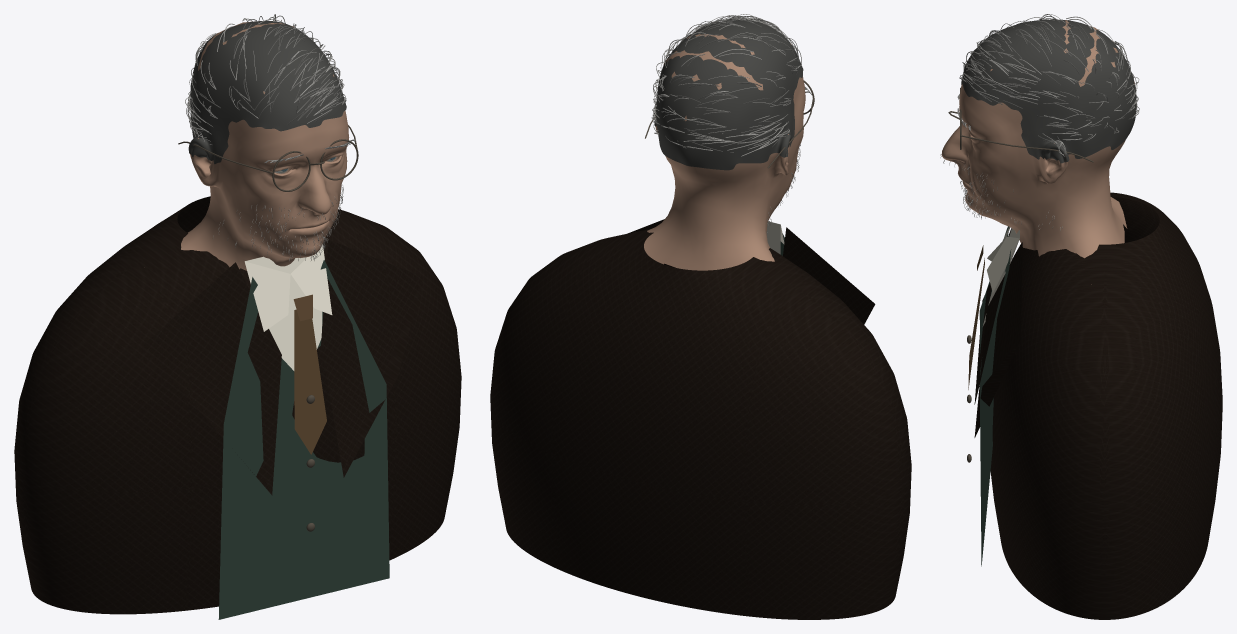
The model's file is scholar-blockout.glb.
3 views of the same model, side by side, from view 1: azimuth 30°, elevation 25°; view 2: azimuth 150°, elevation 25°; view 3: azimuth 270°, elevation 25° (orthographic). The views are drawn at different scales.
Parts seen in each view (by area): view 1: Scholar Brown tweed blocking, Scholar Forest wool waistcoat, Scholar Neutral aged skin blockout, Scholar Grey hair underlayer, Scholar Ivory shirt, Scholar Muted patterned tie blocking, Scholar Grey strand 1, Scholar Grey strand 3, Scholar Grey strand 2, Scholar Thin dark bronze spectacle rims, Scholar Grey strand 0, Scholar Grey strand 4; view 2: Scholar Brown tweed blocking, Scholar Grey hair underlayer, Scholar Neutral aged skin blockout, Scholar Grey strand 1, Scholar Grey strand 3, Scholar Grey strand 4, Scholar Grey strand 2, Scholar Grey strand 0; view 3: Scholar Brown tweed blocking, Scholar Neutral aged skin blockout, Scholar Grey hair underlayer, Scholar Forest wool waistcoat, Scholar Grey strand 1, Scholar Grey strand 3, Scholar Ivory shirt, Scholar Grey strand 4, Scholar Grey strand 0, Scholar Grey strand 2, Scholar Thin dark bronze spectacle rims, Scholar Muted patterned tie blocking.
Part boxes in pixels (x1,y1,x2,y2): Scholar Brown tweed blocking: [14, 196, 461, 614]; Scholar Forest wool waistcoat: [218, 259, 389, 619]; Scholar Neutral aged skin blockout: [181, 21, 349, 270]; Scholar Grey hair underlayer: [188, 20, 346, 164]; Scholar Ivory shirt: [244, 244, 332, 370]; Scholar Muted patterned tie blocking: [293, 294, 326, 454]; Scholar Grey strand 1: [186, 15, 355, 260]; Scholar Grey strand 3: [187, 19, 345, 260]; Scholar Grey strand 2: [188, 14, 355, 259]; Scholar Thin dark bronze spectacle rims: [178, 125, 358, 531]; Scholar Grey strand 0: [191, 16, 355, 260]; Scholar Grey strand 4: [185, 18, 354, 256]; Scholar Brown tweed blocking: [490, 219, 911, 619]; Scholar Grey hair underlayer: [654, 19, 803, 170]; Scholar Neutral aged skin blockout: [644, 34, 805, 270]; Scholar Grey strand 1: [651, 15, 811, 221]; Scholar Grey strand 3: [652, 16, 805, 225]; Scholar Grey strand 4: [653, 14, 810, 222]; Scholar Grey strand 2: [653, 17, 808, 234]; Scholar Grey strand 0: [653, 16, 809, 224]; Scholar Brown tweed blocking: [974, 192, 1222, 619]; Scholar Neutral aged skin blockout: [941, 20, 1134, 284]; Scholar Grey hair underlayer: [961, 19, 1136, 163]; Scholar Forest wool waistcoat: [979, 226, 1011, 566]; Scholar Grey strand 1: [940, 16, 1138, 224]; Scholar Grey strand 3: [940, 19, 1138, 226]; Scholar Ivory shirt: [982, 227, 1019, 326]; Scholar Grey strand 4: [958, 14, 1139, 230]; Scholar Grey strand 0: [943, 14, 1139, 228]; Scholar Grey strand 2: [944, 23, 1138, 228]; Scholar Thin dark bronze spectacle rims: [948, 87, 1093, 462]; Scholar Muted patterned tie blocking: [968, 245, 984, 389].
Bounding box in the file's own units: 0.5268 × 0.6401 × 0.3234.
Materials: 15 (1 with a texture image).
